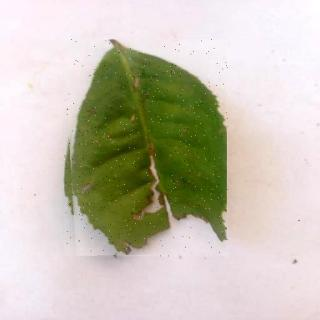Brown Blight: (66, 41, 230, 259)
